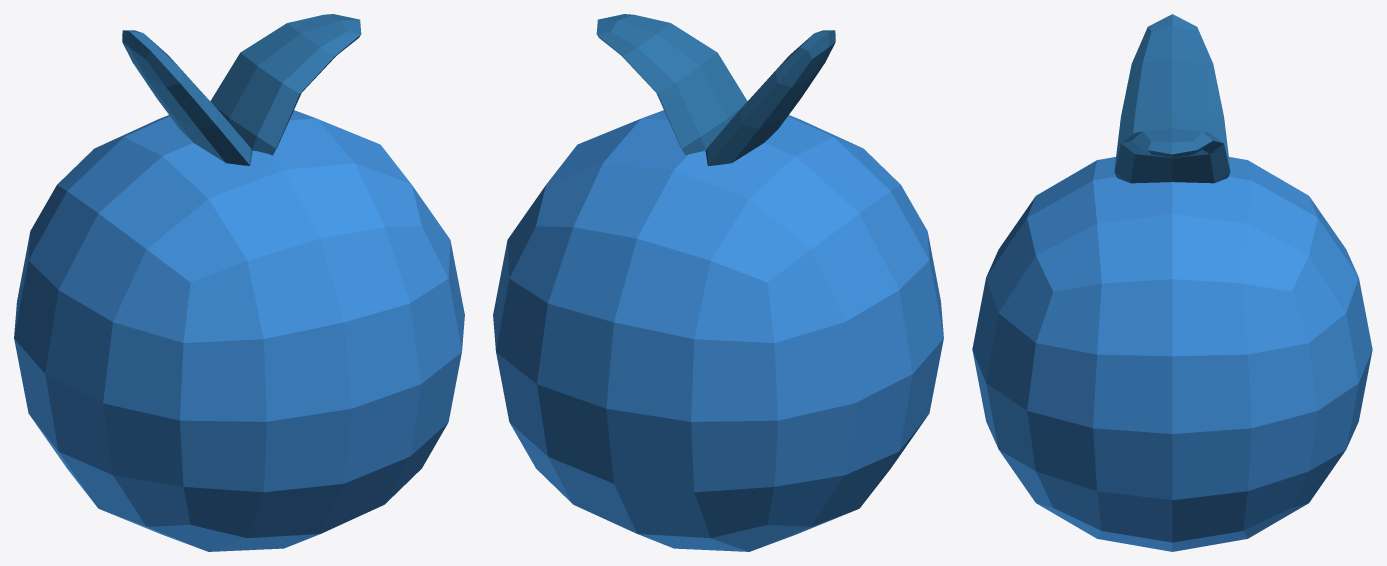
Rendered from mora.glb.
3 views of the same model, side by side, from view 1: azimuth 30°, elevation 25°; view 2: azimuth 150°, elevation 25°; view 3: azimuth 270°, elevation 25° (orthographic). The views are drawn at different scales.
Parts seen in each view (by area): view 1: Mora; view 2: Mora; view 3: Mora.
Boxes of the visible parts, x1,y1,x2,y2 form: Mora: [14, 14, 464, 551]; Mora: [493, 14, 943, 551]; Mora: [972, 14, 1372, 551].
Size of the model in its own units: 1.71 by 2.21 by 1.71.
